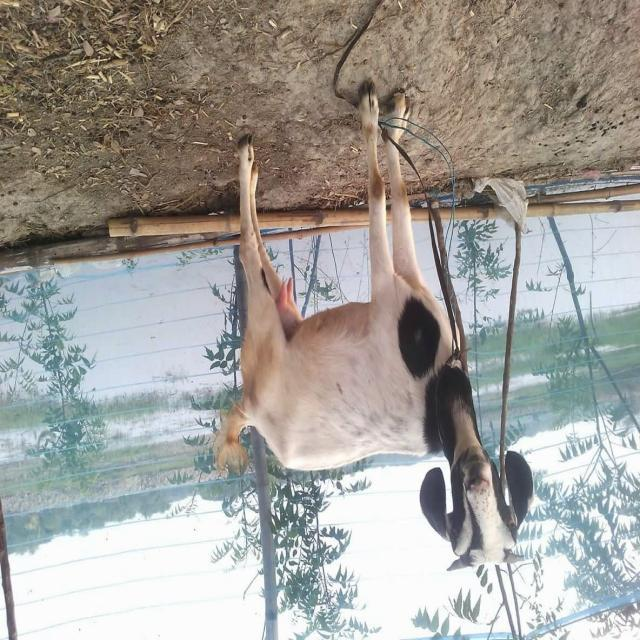Goat: (212, 80, 533, 573)
